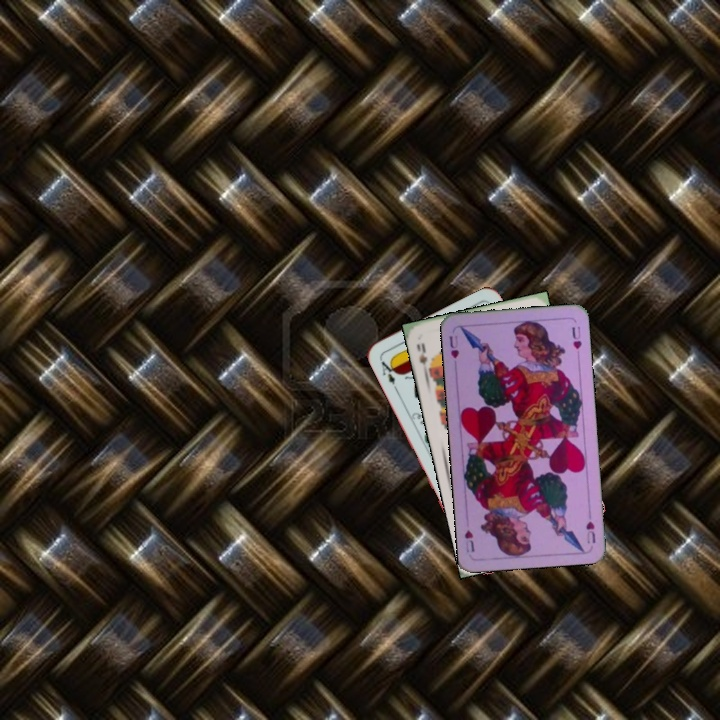EA: (376, 355, 400, 393)
HU: (445, 331, 462, 361), (582, 517, 598, 546)
S9: (413, 339, 435, 376)
